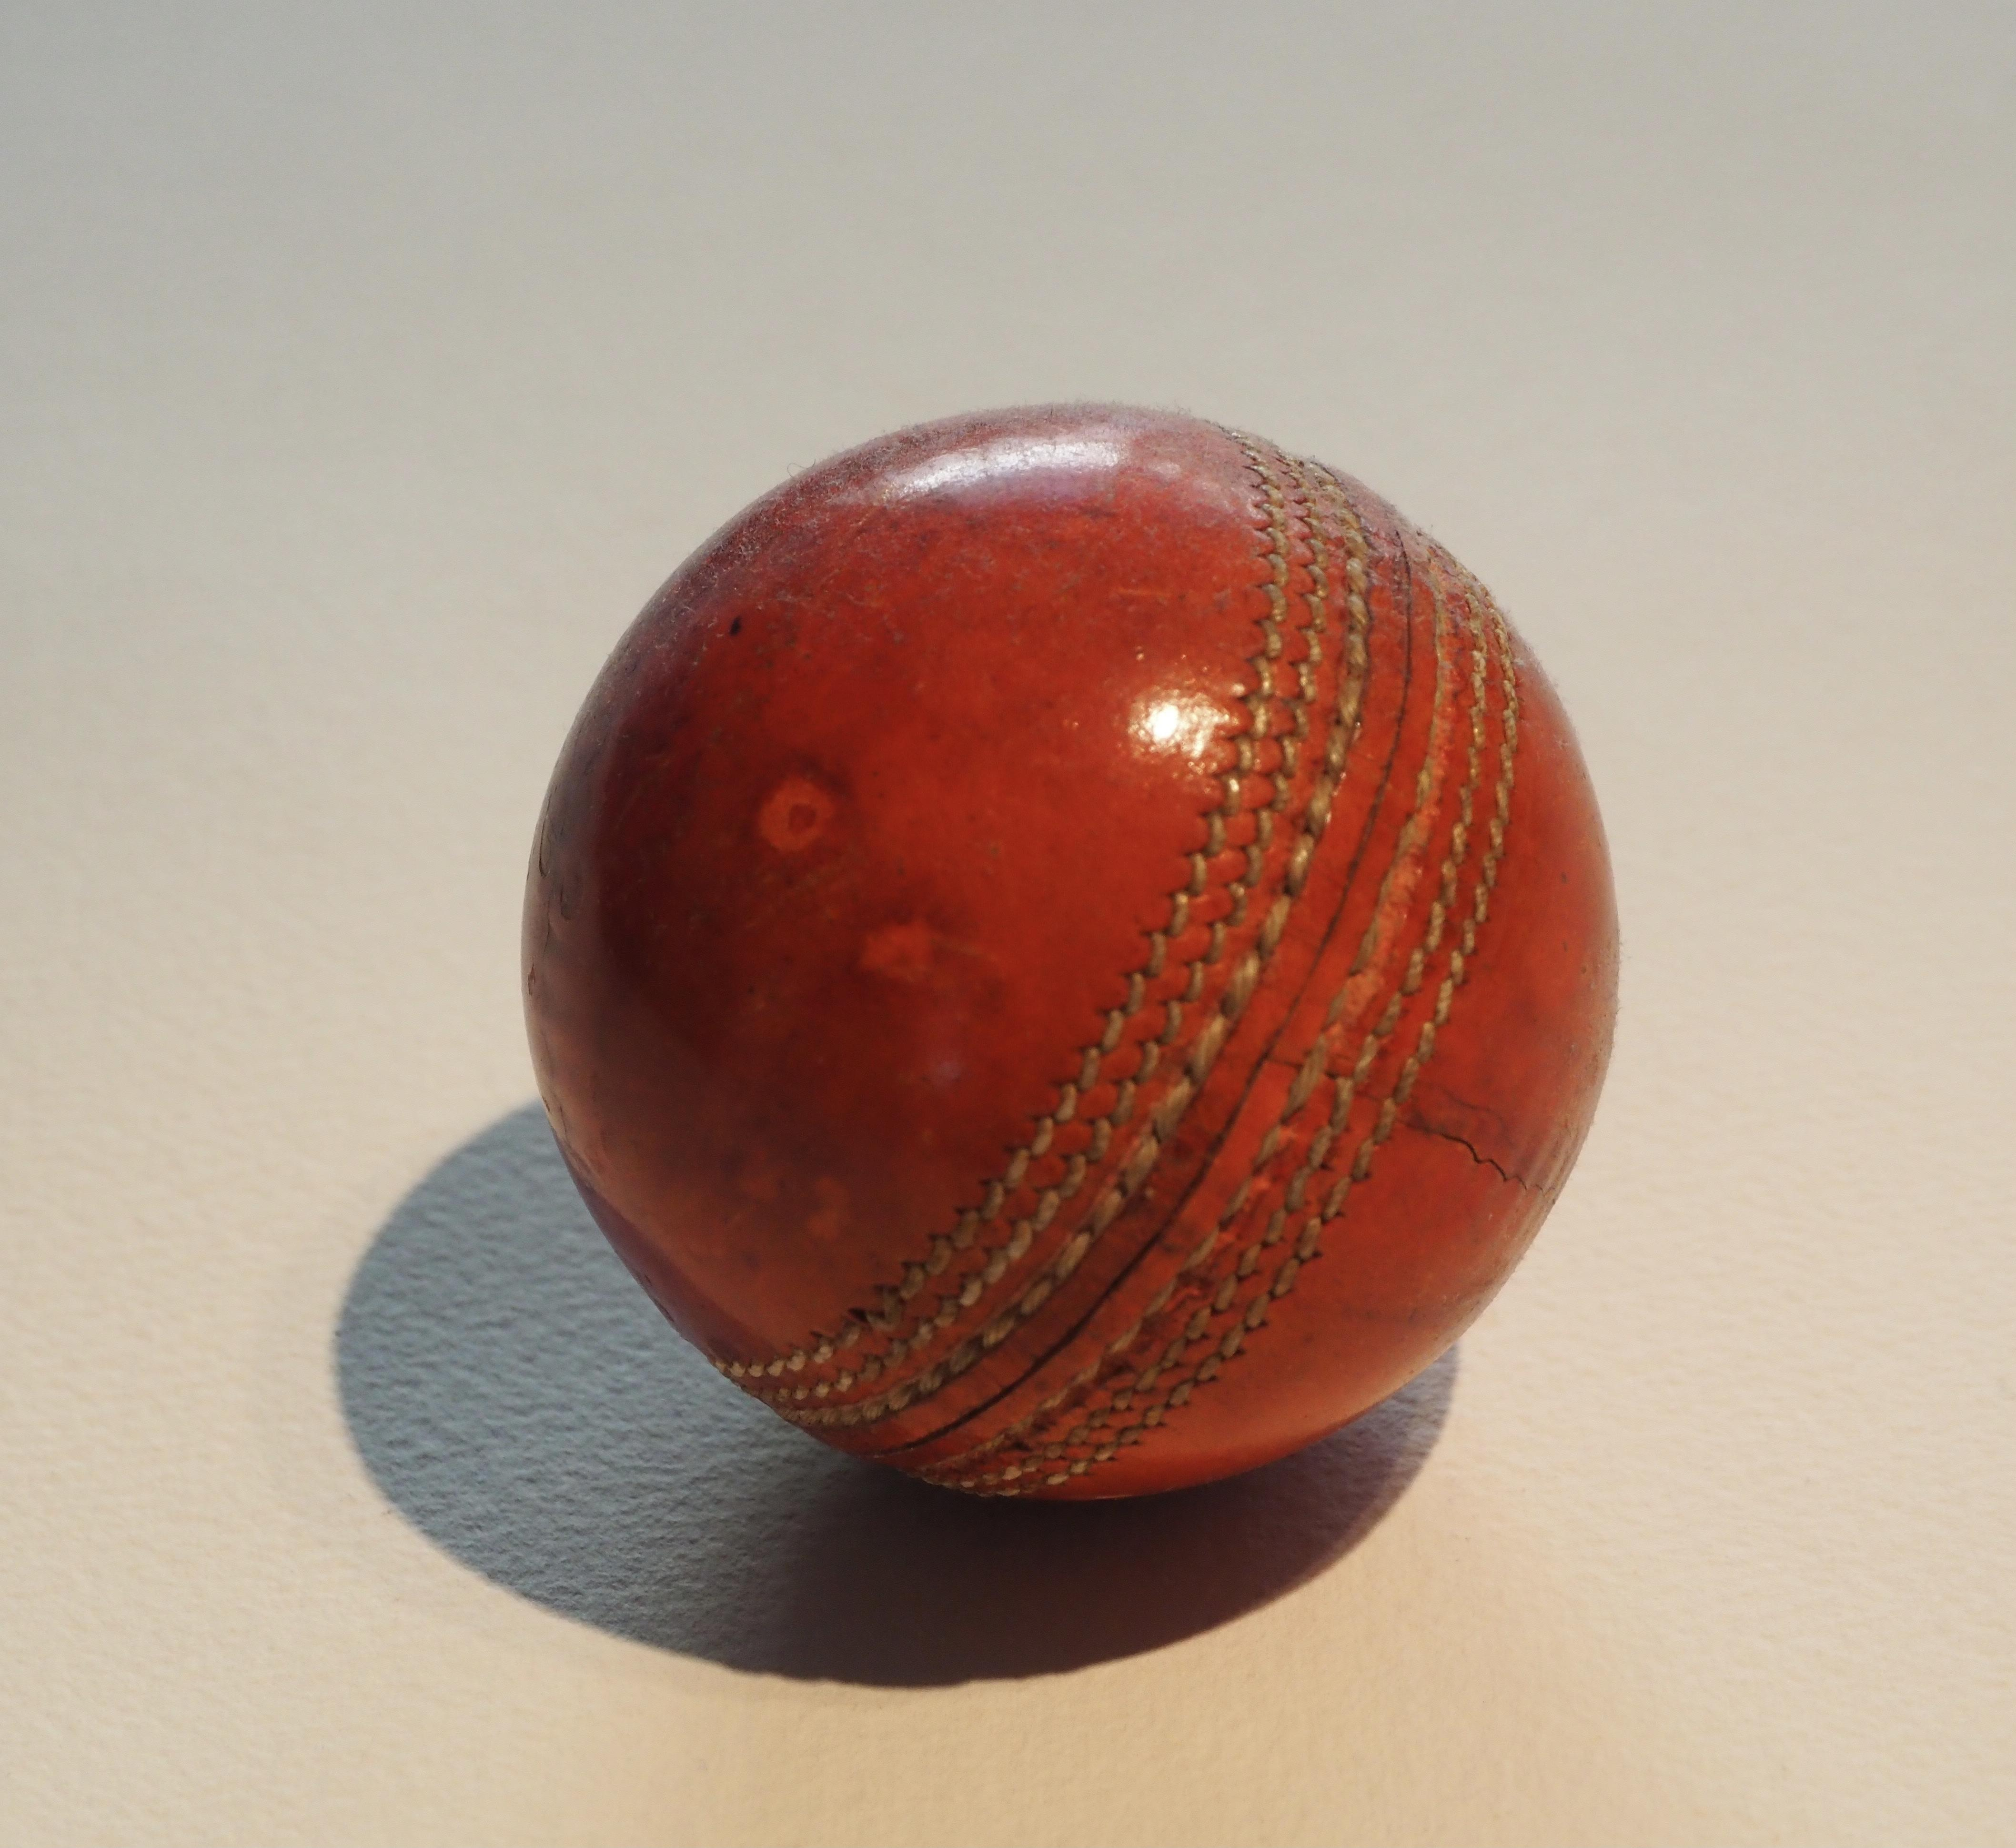Red_Ball: (399, 388, 1716, 1534)
